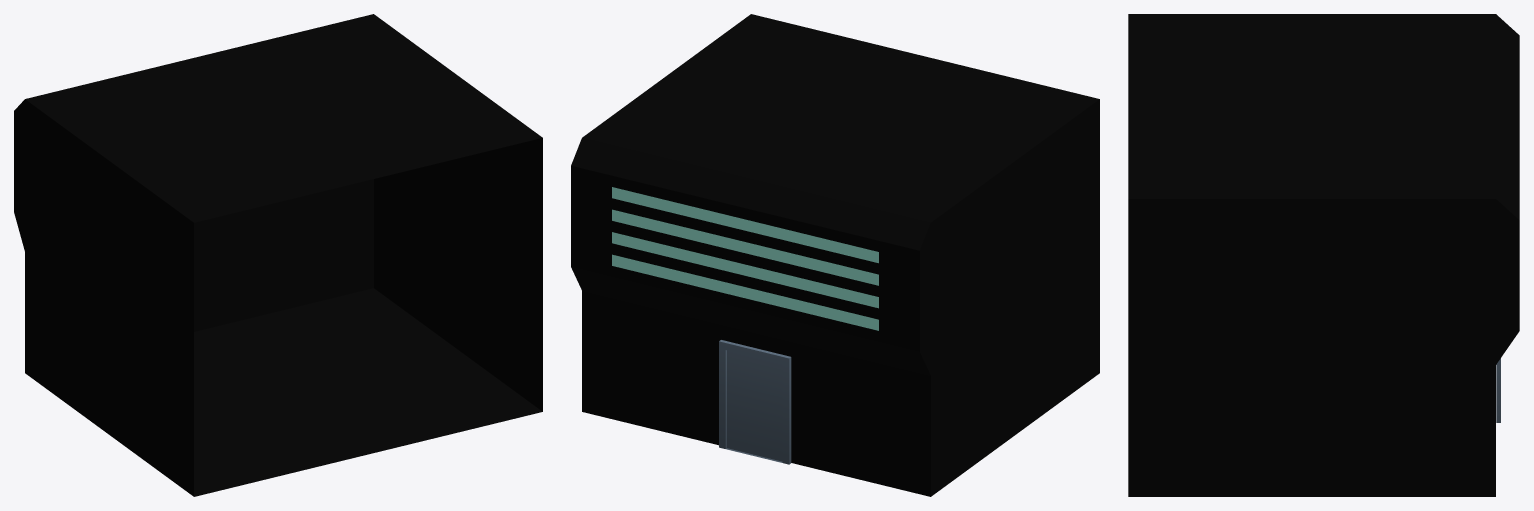
File: Comercio_Edificio_05.FBX
3 views of the same model, side by side, from view 1: azimuth 30°, elevation 25°; view 2: azimuth 150°, elevation 25°; view 3: azimuth 270°, elevation 25° (orthographic). The views are drawn at different scales.
Parts seen in each view (by area): view 1: Comercio_Edificio_05; view 2: Comercio_Edificio_05; view 3: Comercio_Edificio_05.
Part boxes in pixels (x1,y1,x2,y2): Comercio_Edificio_05: (14,14,542,496); Comercio_Edificio_05: (571,14,1099,496); Comercio_Edificio_05: (1128,14,1519,496).
Size of the model in its own units: 920 by 823 by 691.
